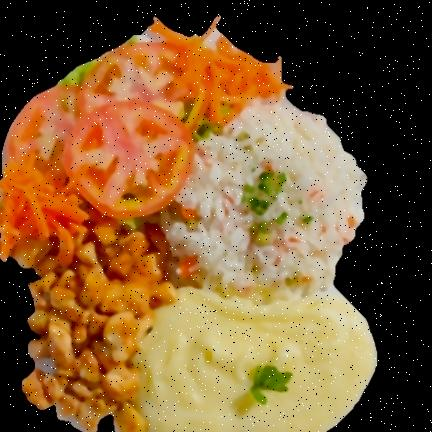carrot: (148, 17, 292, 131), (0, 156, 90, 262)
chicken: (22, 229, 175, 432)
potato: (134, 288, 375, 432)
rice: (160, 102, 366, 300)
tomato: (3, 38, 205, 218)
